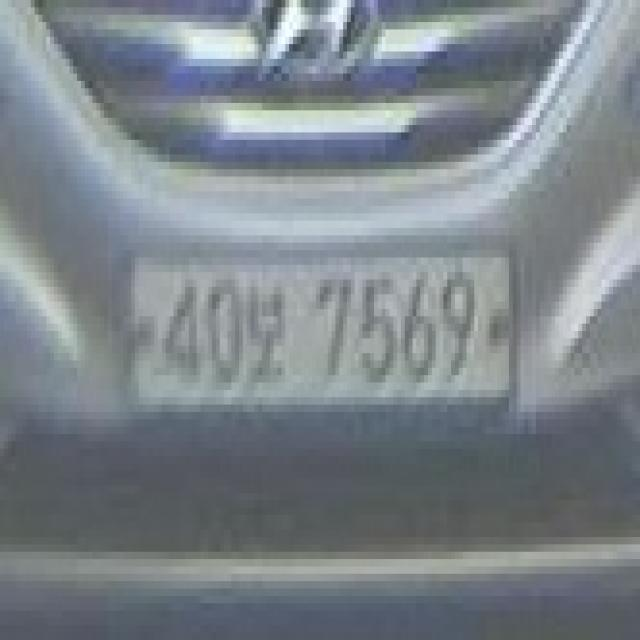0: (204, 272, 243, 390)
4: (158, 272, 204, 390)
5: (363, 265, 397, 390)
6: (397, 272, 436, 383)
7: (316, 265, 355, 382)
9: (440, 265, 474, 382)
bo: (243, 279, 289, 390)
license_plate: (124, 235, 520, 427)
